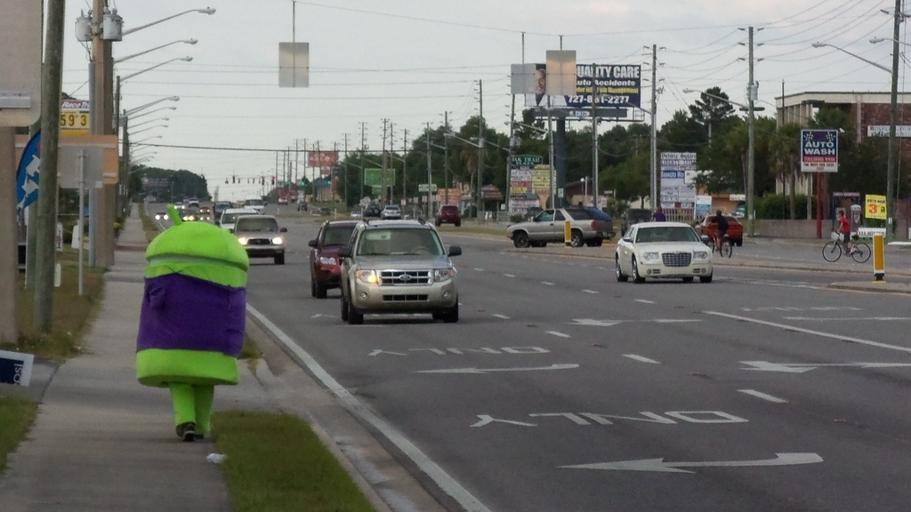non-vehicle: (822, 230, 873, 262), (703, 228, 733, 257)
